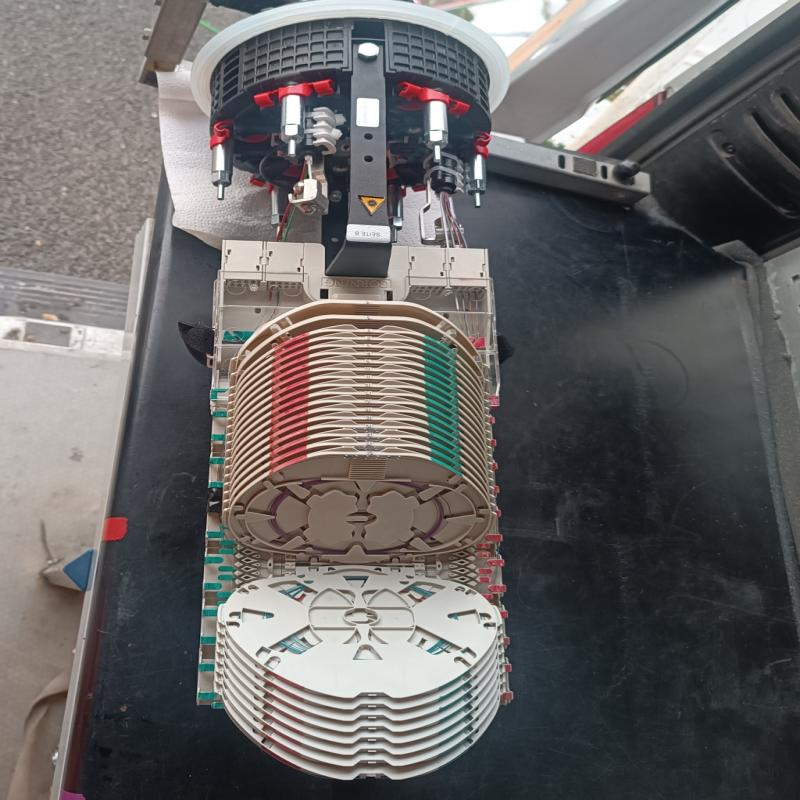NT-Muffen: (153, 0, 540, 780)
